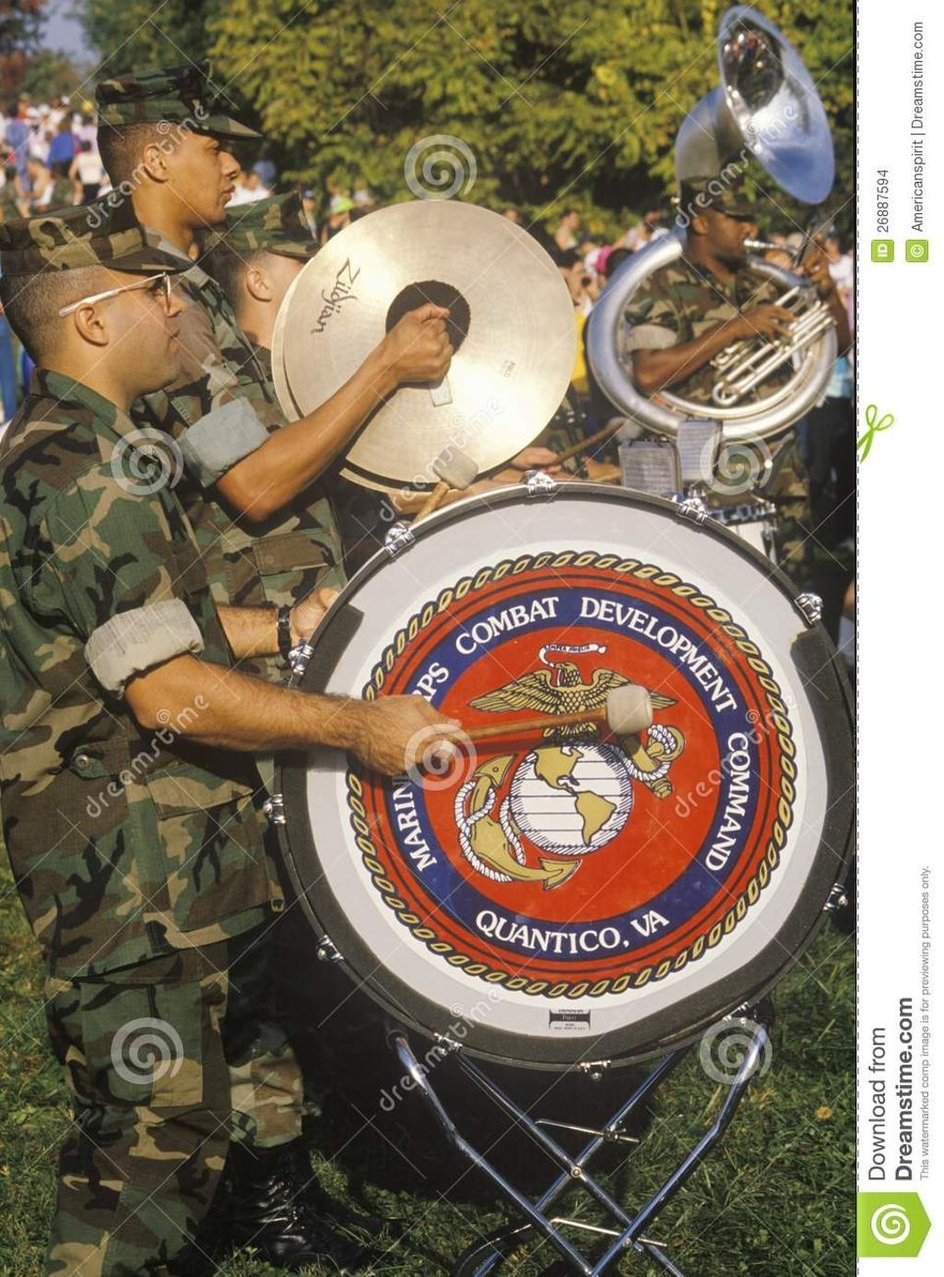human_face: (104, 245, 182, 379), (171, 117, 238, 224), (707, 192, 757, 262)
